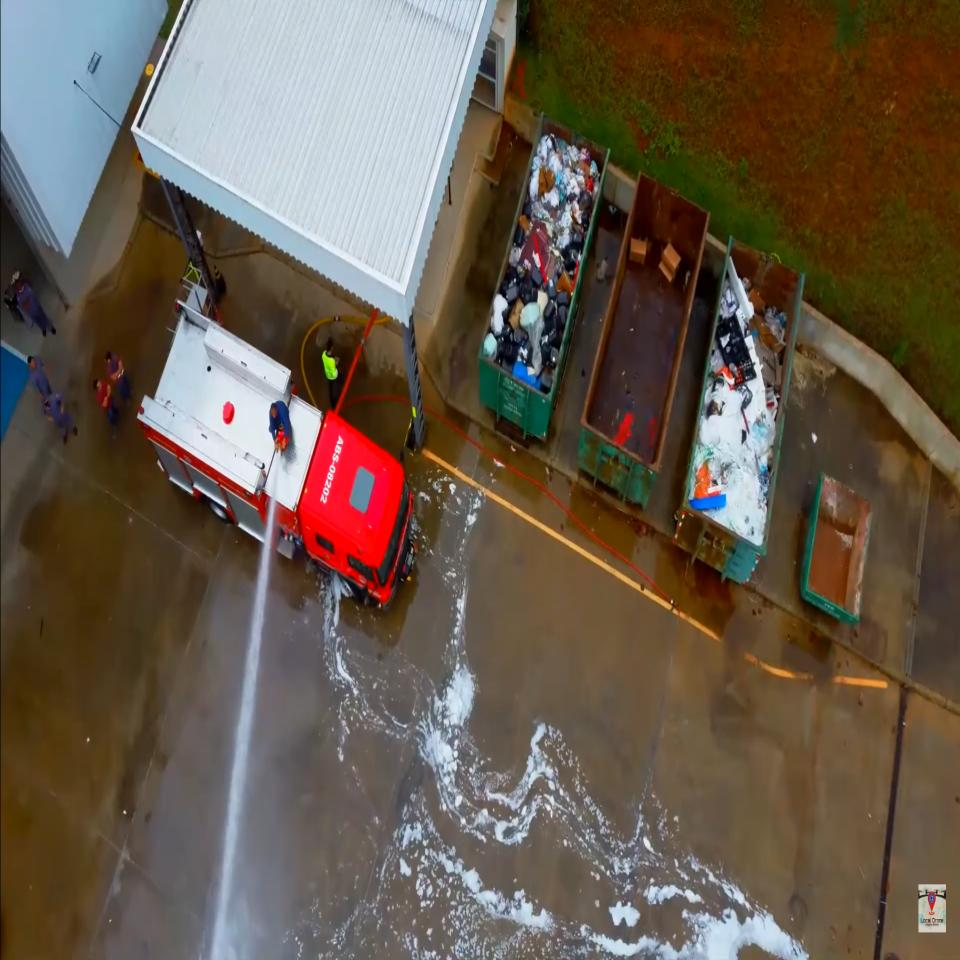viatura: (134, 297, 410, 614)
